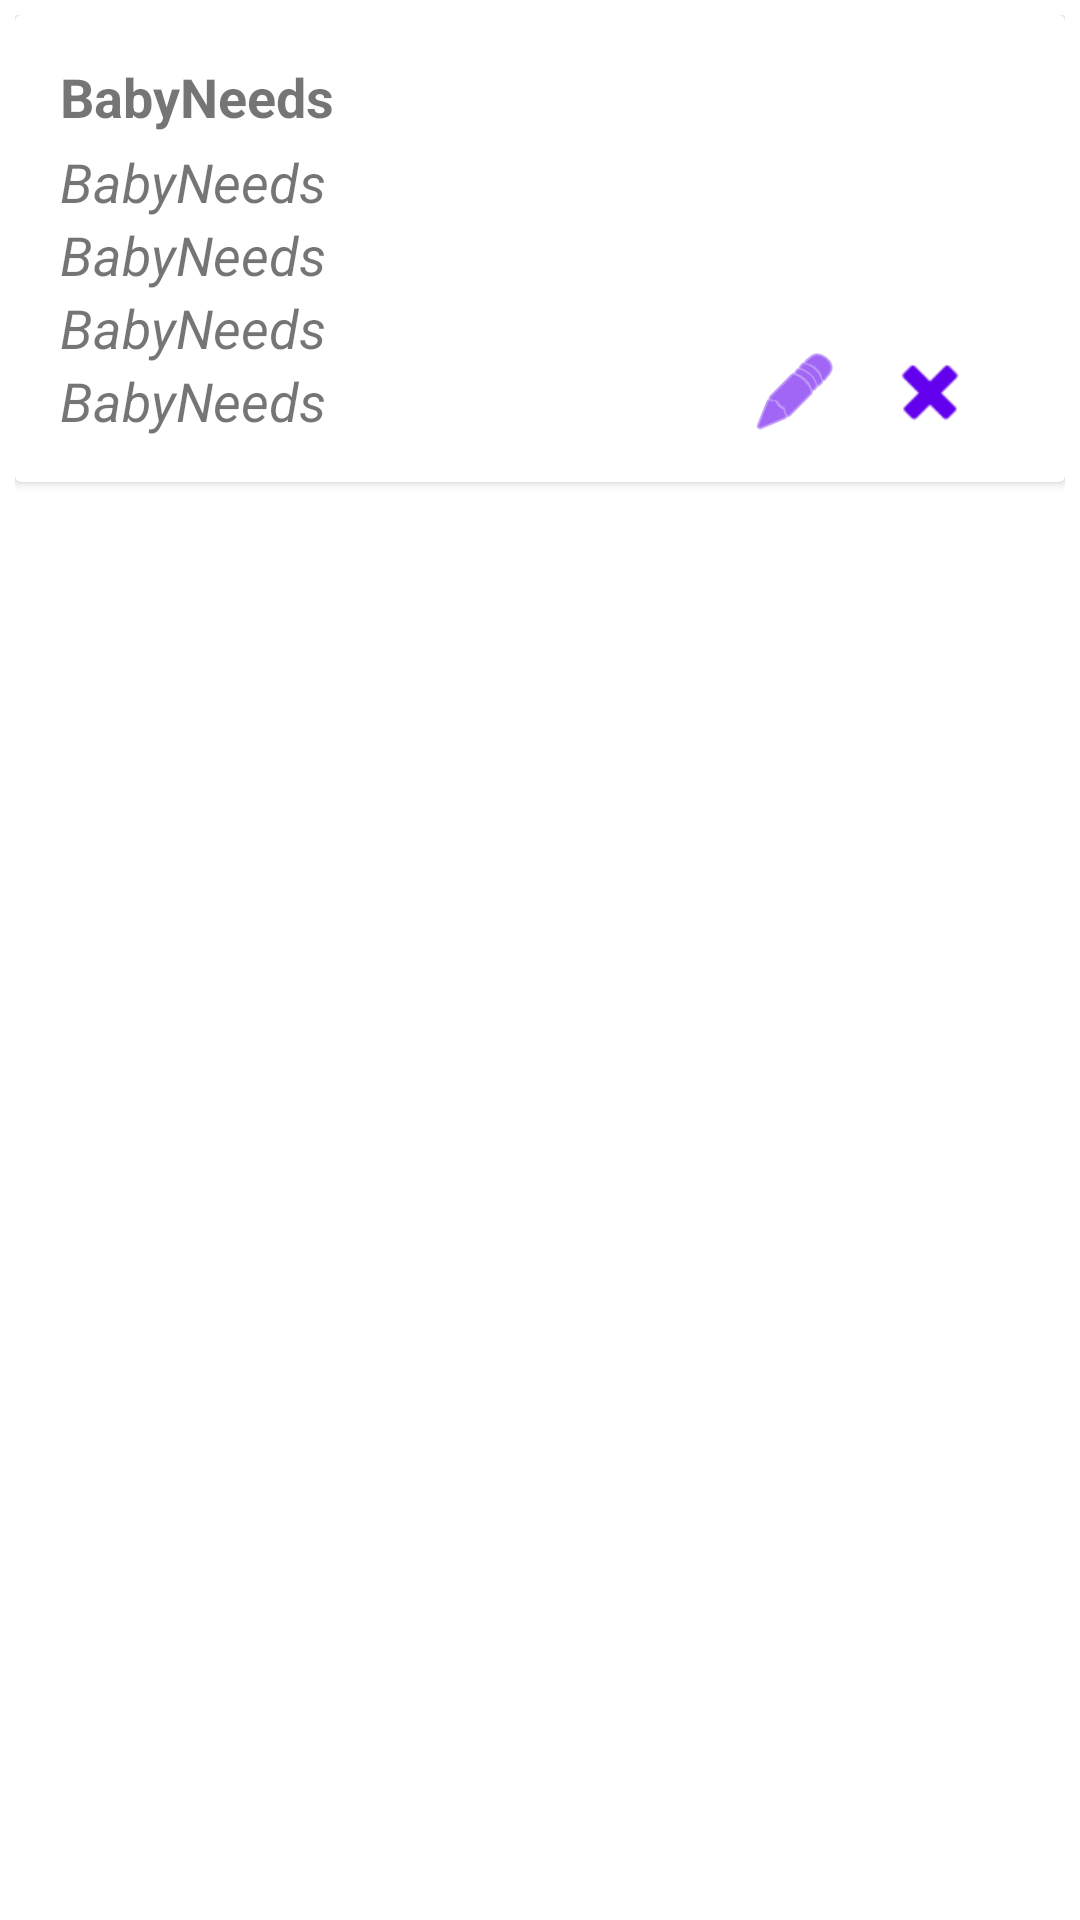

Icon bounding boxes for this 1080px×1920px phone screenshot, format (x1, y1, x2, y2):
delete: (901, 365, 959, 420)
edit: (756, 353, 833, 430)
